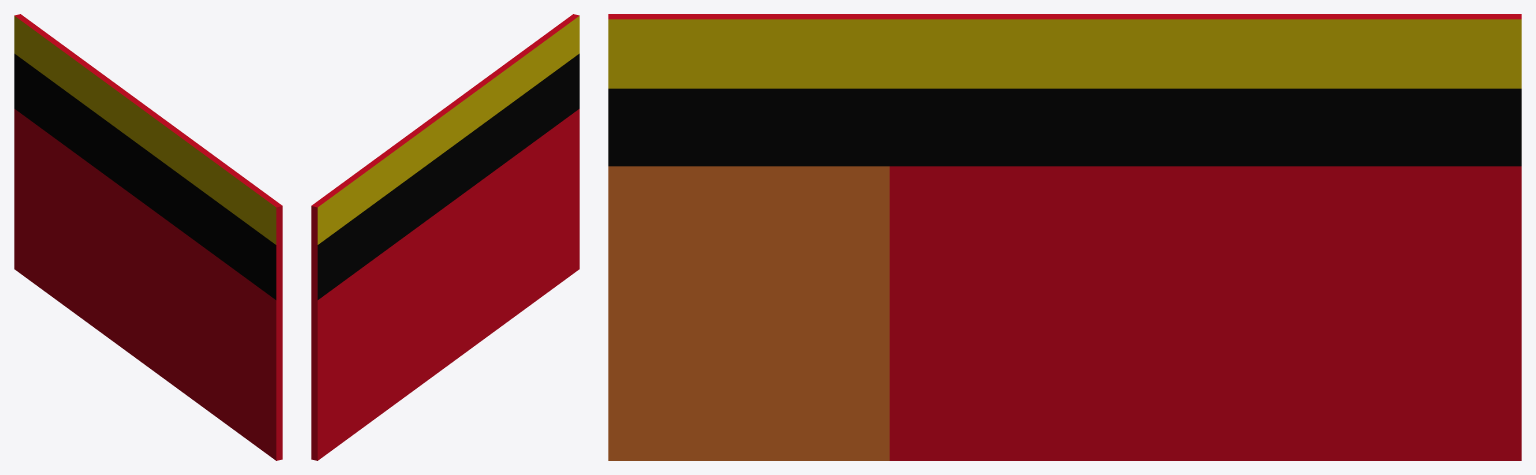
File: kade.fbx
3 renders of one model, left to right at view 1: azimuth 30°, elevation 25°; view 2: azimuth 150°, elevation 25°; view 3: azimuth 270°, elevation 25°, orthographic. The views are drawn at different scales.
Visible parts, largest first — view 1: ka-do; view 2: ka-do; view 3: ka-do.
Boxes of the visible parts, x1,y1,x2,y2 form: ka-do: [14, 14, 282, 460]; ka-do: [311, 14, 579, 460]; ka-do: [608, 14, 1521, 460].
Size of the model in its own units: 0.2822 by 10.65 by 19.97.
